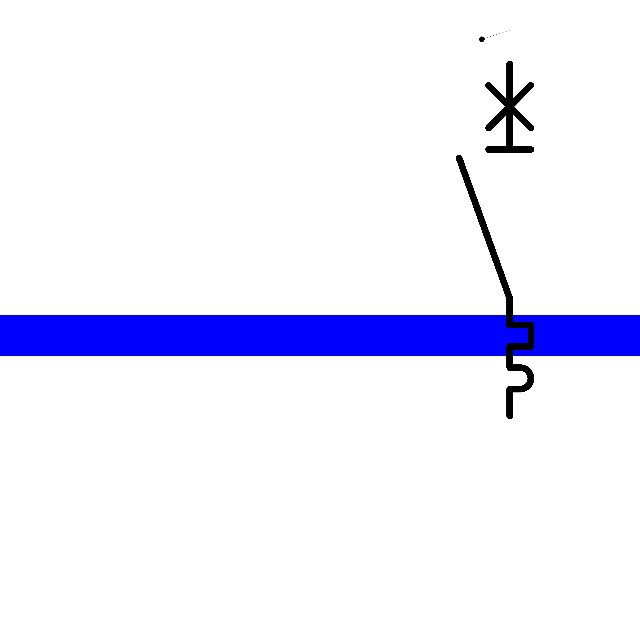interruptor_termomagnetico: (450, 54, 540, 424)
